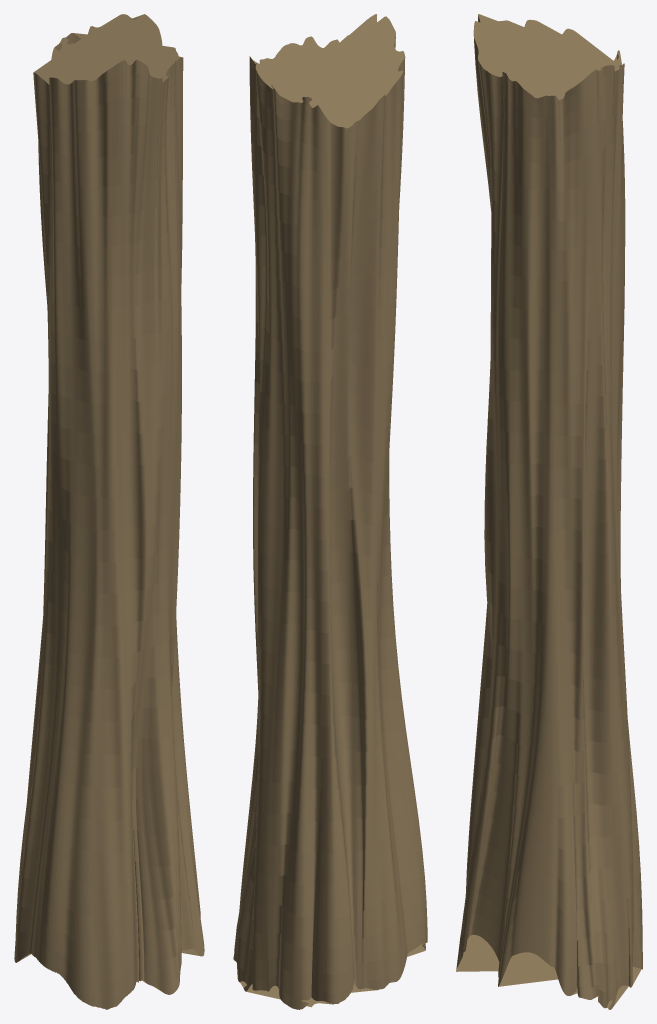
The model's file is real Base of tree.fbx.
3 views of the same model, side by side, from view 1: azimuth 30°, elevation 25°; view 2: azimuth 150°, elevation 25°; view 3: azimuth 270°, elevation 25° (orthographic).
Parts seen in each view (by area): view 1: Cylindre; view 2: Cylindre; view 3: Cylindre.
Boxes of the visible parts, x1,y1,x2,y2 form: Cylindre: (14, 14, 204, 1009); Cylindre: (233, 14, 427, 1009); Cylindre: (456, 14, 642, 1009).
Size of the model in its own units: 245 by 1329 by 235.
